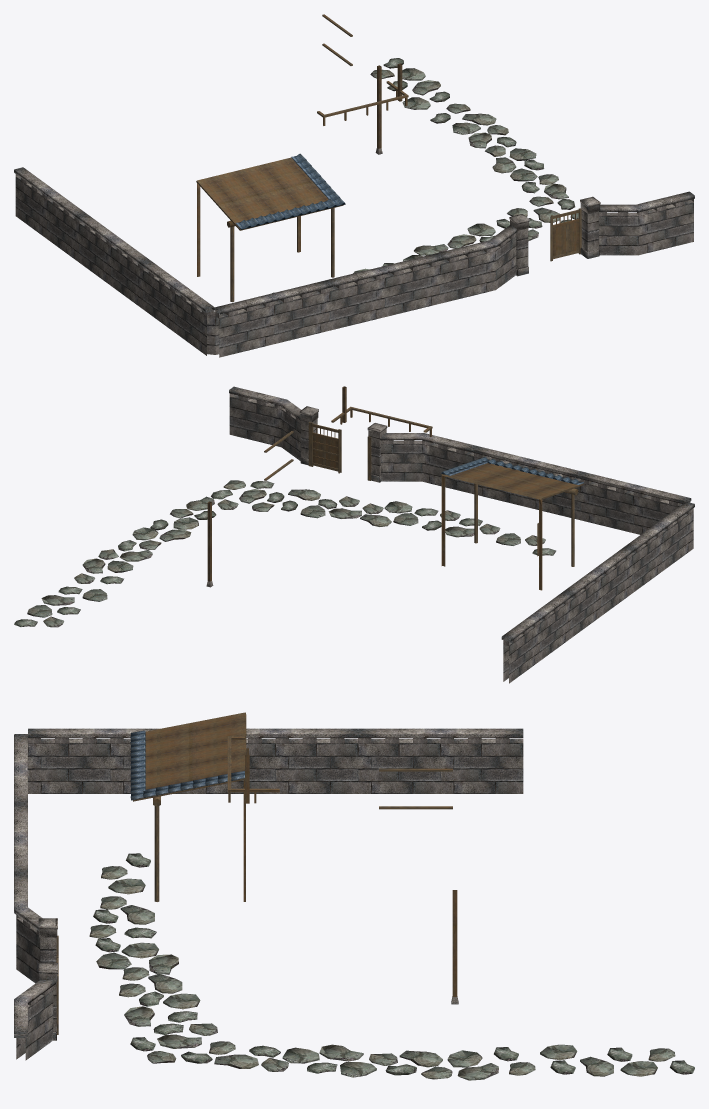
File: stg06_intro_obj.obj
The picture shows the model from 3 angles, top to bottom: view 1: azimuth 30°, elevation 25°; view 2: azimuth 150°, elevation 25°; view 3: azimuth 270°, elevation 25°; orthographic projection. The views are drawn at different scales.
Visible parts, largest first — view 1: polygon2, polygon0, polygon3, polygon51, polygon84; view 2: polygon2, polygon3, polygon0, polygon51, polygon84; view 3: polygon2, polygon3, polygon0, polygon51, polygon84, polygon1.
Part boxes in pixels (x1,y1,x2,y2): polygon2: (14,148,694,357); polygon0: (196,14,581,302); polygon3: (272,58,578,293); polygon51: (235,153,345,229); polygon84: (509,214,529,276); polygon2: (206,386,694,683); polygon3: (14,480,555,627); polygon0: (264,386,583,590); polygon51: (441,457,583,484); polygon84: (367,423,387,482); polygon2: (14,728,523,1060); polygon3: (89,853,694,1080); polygon0: (56,712,452,1034); polygon51: (130,730,244,800); polygon84: (38,918,57,962); polygon1: (452,890,457,996).
Bounding box in the file's own units: 15.64 × 5.01 × 14.73.
Materials: 6 (6 with a texture image).
